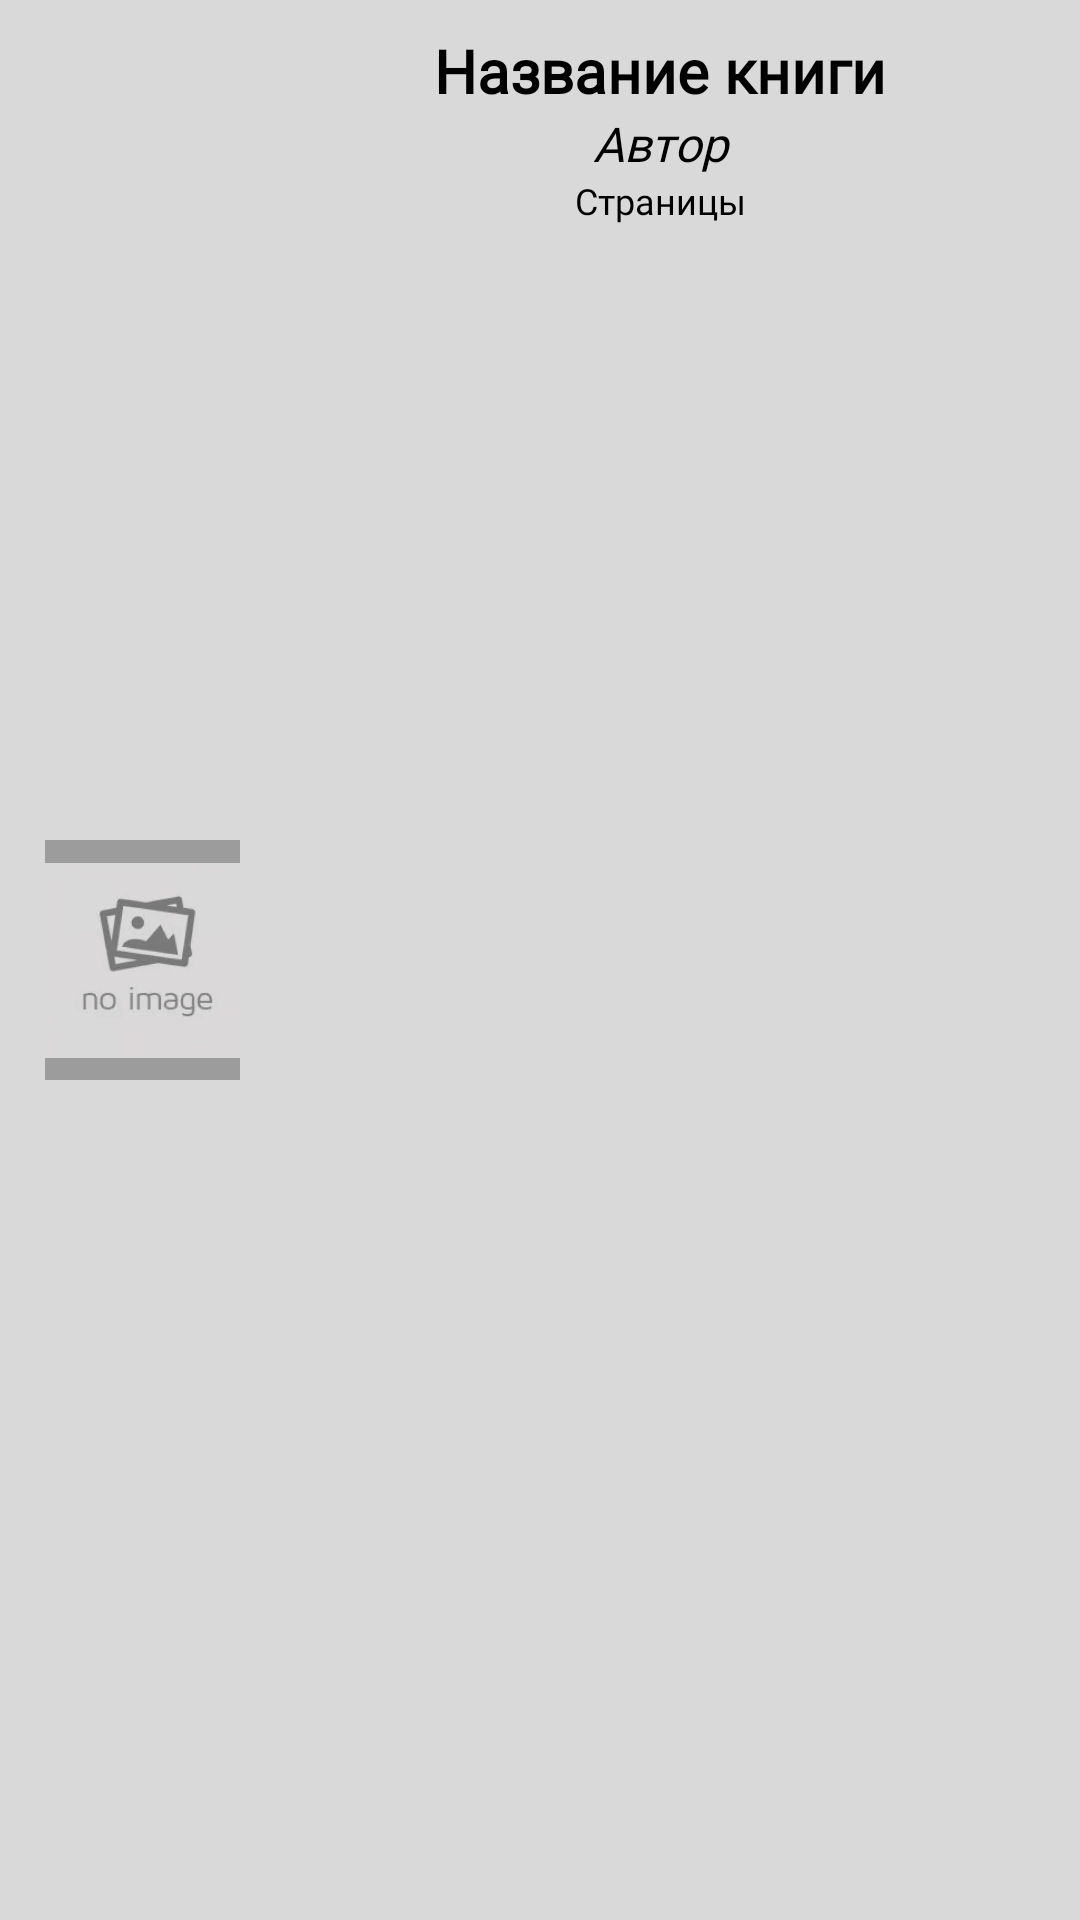

Named icons in this screenshot (1080px×1920px) and their bounding boxes, [x1,y1,x2,y2]:
empty: [45,840,240,1080]
